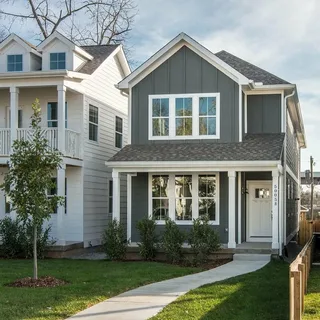private_hause: (117, 43, 292, 252), (3, 33, 114, 246)
